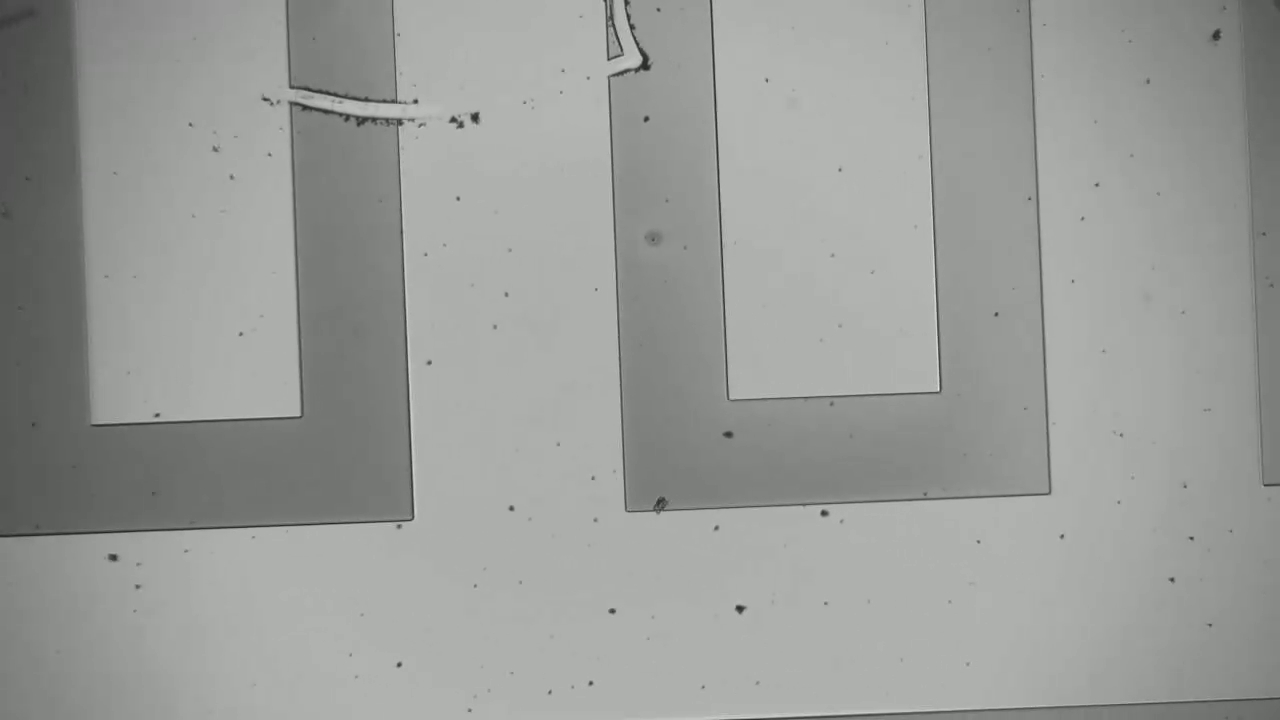Short_circuit: (263, 67, 432, 147)
